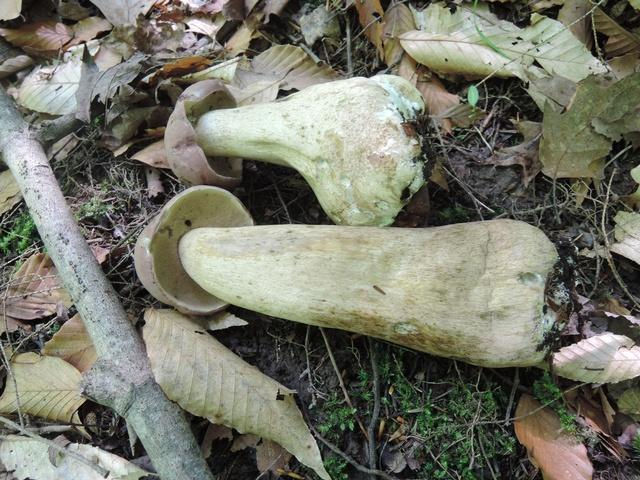Non-edible Mushroom: (138, 180, 594, 371), (192, 72, 428, 227)
